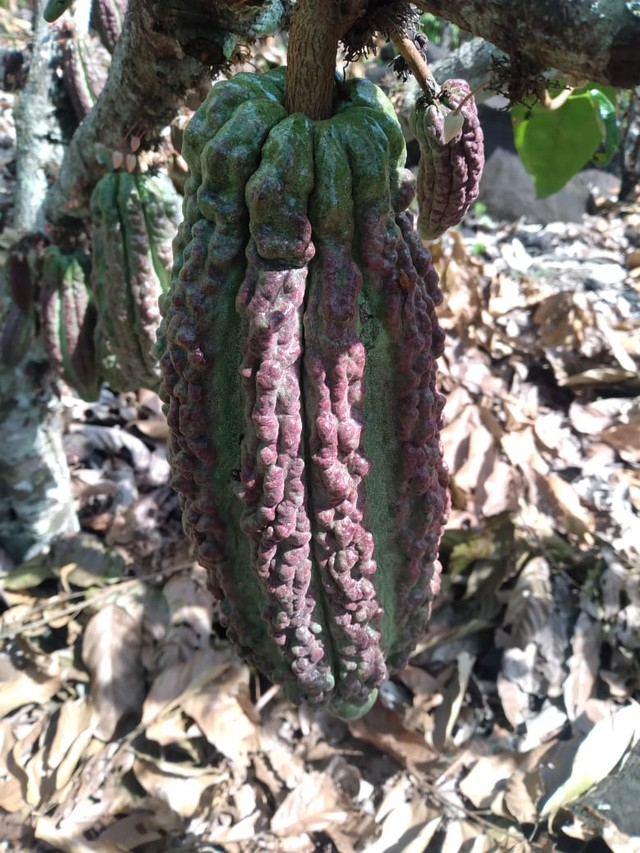Health: (117, 23, 475, 747)
